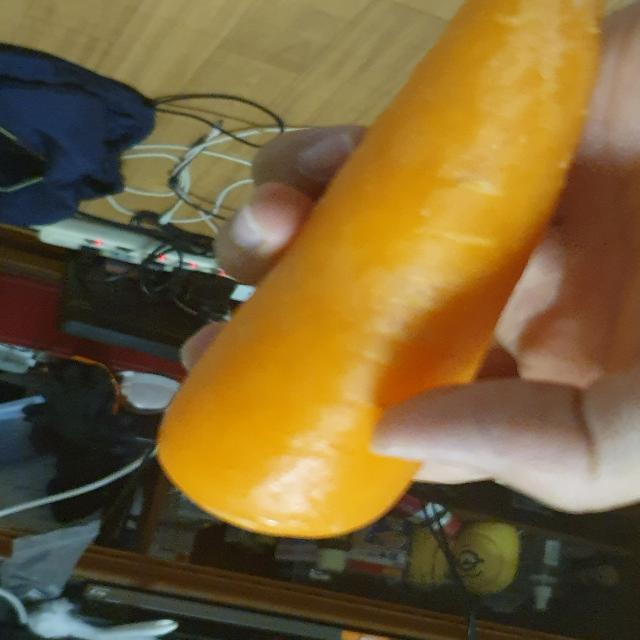Carrot: (147, 0, 608, 550)
